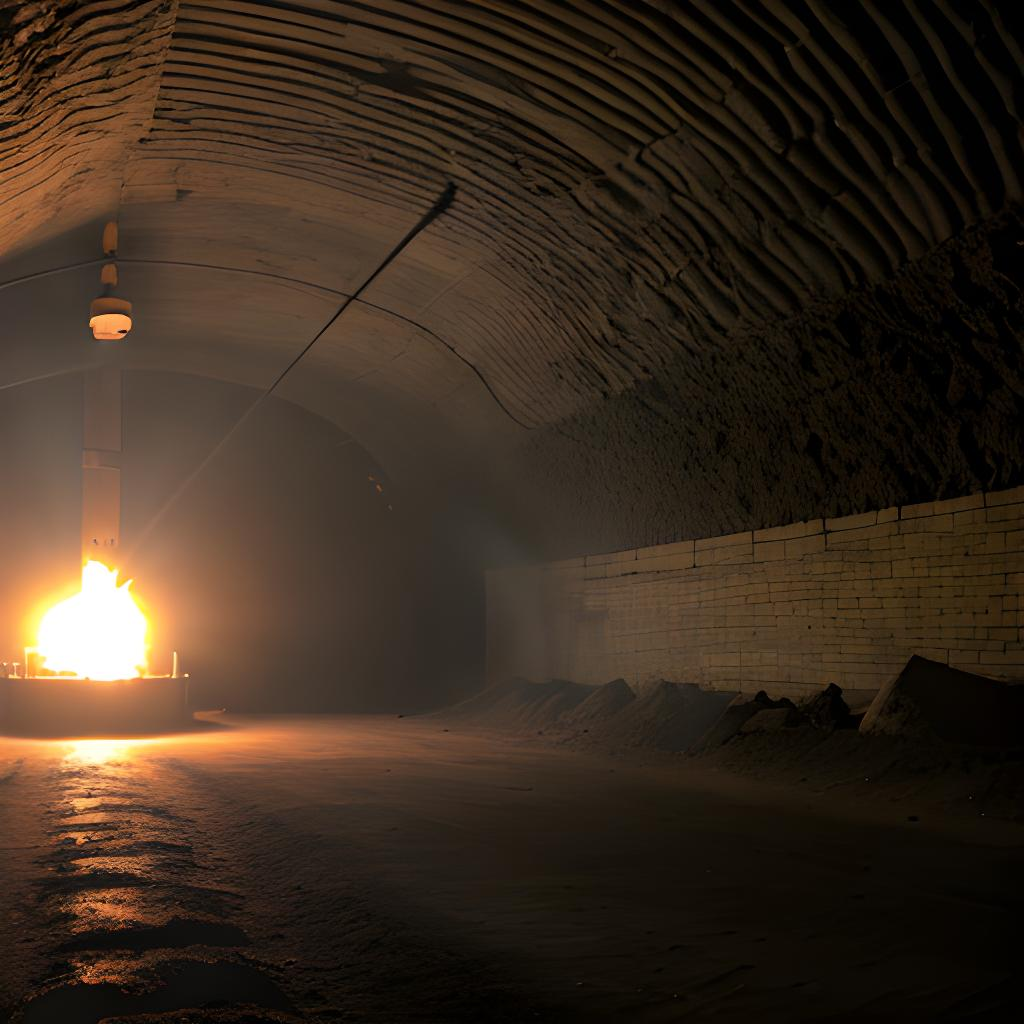smoke: (19, 569, 193, 694)
